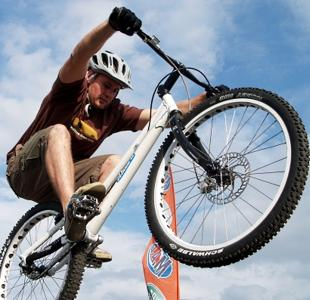person: (5, 5, 230, 266)
